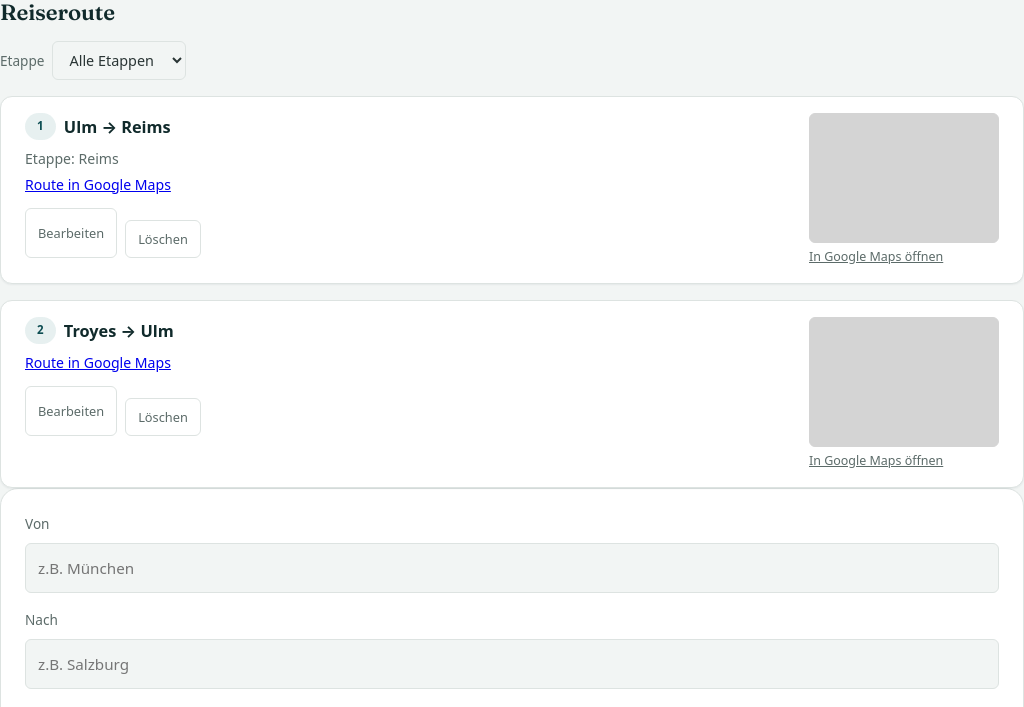
Test: Etappen-Filter im Bereich Reiseroute › Nutzerpfad: Etappe ohne Eintraege waehlen -> verstaendliche Leermeldung statt leerer Liste
The width and height of the screenshot is (1024, 707).
expect the text "Ulm → Reims" is shown: met, box [64, 114, 171, 140]
Select "Rouen" in the dropdown labelled "Etappe" at (120, 61), box [52, 42, 186, 80]
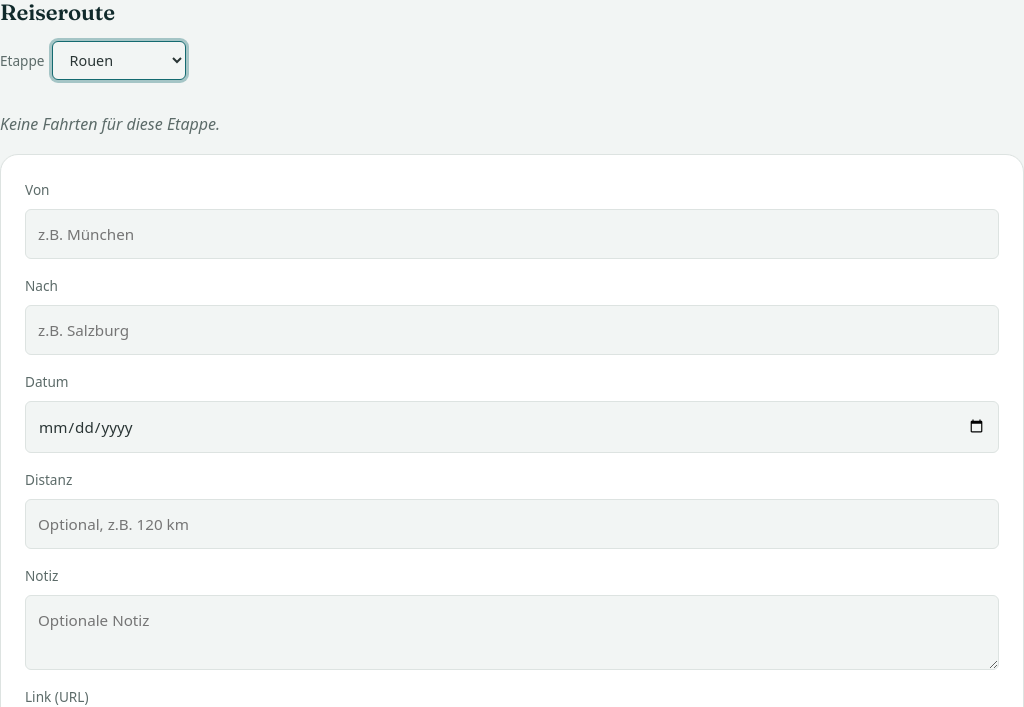
expect the text "Ulm → Reims" is gone: met
expect the text "Troyes → Ulm" is gone: met
expect the text "Keine Fahrten für diese Etappe." is shown: met, box [0, 114, 220, 136]
